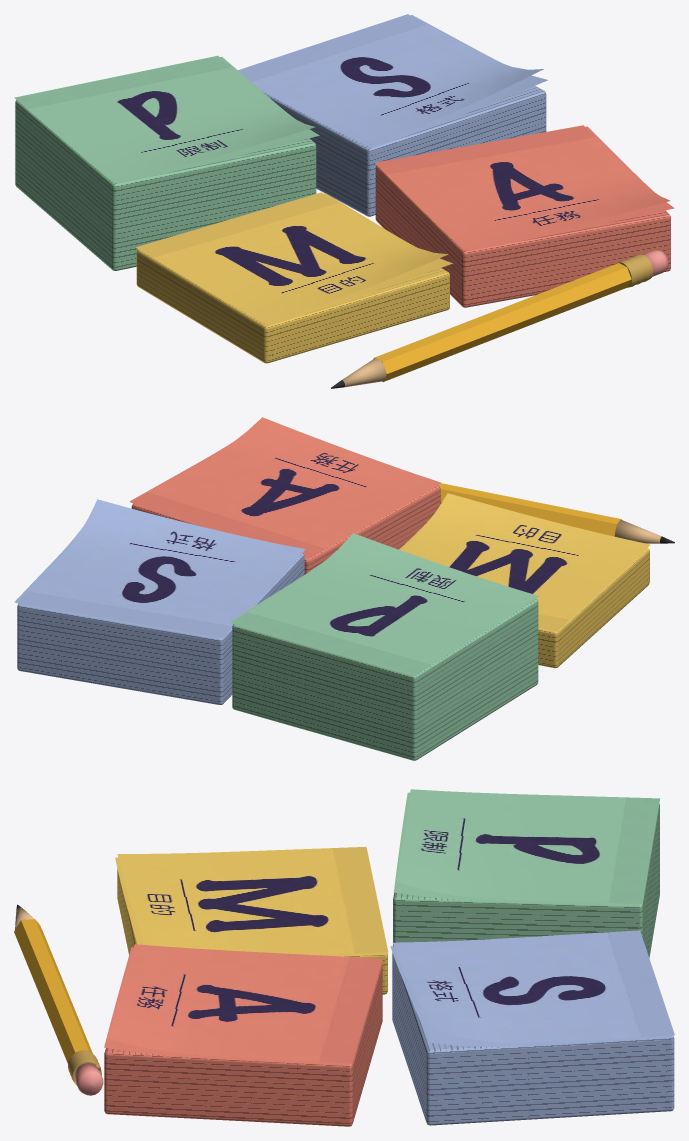
File: keep_notes.glb
3 views of the same model, one above another, from view 1: azimuth 30°, elevation 25°; view 2: azimuth 150°, elevation 25°; view 3: azimuth 270°, elevation 25° (orthographic). The views are drawn at different scales.
Visible parts, largest first — view 1: nt_P_pad, nt_A_top, nt_M_top, nt_P_top, nt_S_top, nt_A_pad, nt_M_pad, nt_S_pad, nt_pencil_body, nt_S_under, nt_P_under, nt_M_under (+3 smaller); view 2: nt_P_pad, nt_S_top, nt_P_top, nt_A_top, nt_M_top, nt_S_pad, nt_M_pad, nt_A_pad, nt_pencil_body, nt_pencil_cone; view 3: nt_A_top, nt_P_top, nt_S_top, nt_M_top, nt_S_pad, nt_A_pad, nt_P_pad, nt_pencil_body, nt_S_under, nt_P_under, nt_A_under, nt_M_pad (+2 smaller).
Part boxes in pixels (left/top/right/bottom): nt_P_pad: left=15, top=100, right=316, bottom=270; nt_A_top: left=375, top=125, right=670, bottom=249; nt_M_top: left=135, top=192, right=448, bottom=323; nt_P_top: left=14, top=55, right=315, bottom=181; nt_S_top: left=238, top=14, right=543, bottom=146; nt_A_pad: left=375, top=165, right=670, bottom=307; nt_M_pad: left=136, top=249, right=449, bottom=363; nt_S_pad: left=262, top=86, right=546, bottom=216; nt_pencil_body: left=373, top=263, right=631, bottom=381; nt_S_under: left=369, top=15, right=548, bottom=148; nt_P_under: left=115, top=57, right=319, bottom=183; nt_M_under: left=266, top=193, right=452, bottom=325; nt_P_pad: left=232, top=599, right=538, bottom=760; nt_S_top: left=16, top=499, right=305, bottom=638; nt_P_top: left=231, top=533, right=538, bottom=675; nt_A_top: left=130, top=417, right=441, bottom=558; nt_M_top: left=401, top=493, right=650, bottom=631; nt_S_pad: left=17, top=553, right=304, bottom=704; nt_M_pad: left=538, top=548, right=649, bottom=668; nt_A_pad: left=131, top=485, right=440, bottom=574; nt_pencil_body: left=438, top=483, right=621, bottom=536; nt_pencil_cone: left=614, top=520, right=661, bottom=543; nt_A_top: left=107, top=944, right=382, bottom=1063; nt_P_top: left=397, top=789, right=660, bottom=903; nt_S_top: left=393, top=930, right=674, bottom=1043; nt_M_top: left=117, top=847, right=388, bottom=954; nt_S_pad: left=392, top=952, right=674, bottom=1125; nt_A_pad: left=104, top=963, right=382, bottom=1126; nt_P_pad: left=393, top=804, right=659, bottom=957; nt_pencil_body: left=14, top=919, right=92, bottom=1063; nt_S_under: left=390, top=946, right=672, bottom=1046; nt_P_under: left=393, top=792, right=639, bottom=906; nt_A_under: left=104, top=947, right=349, bottom=1065; nt_M_pad: left=117, top=869, right=387, bottom=994.
Bounding box in the file's own units: 0.2452 × 0.0557 × 0.2848.
Materials: 17 (8 with a texture image).
